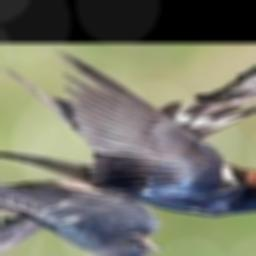Swallow: (0, 51, 256, 216), (0, 186, 160, 256)
